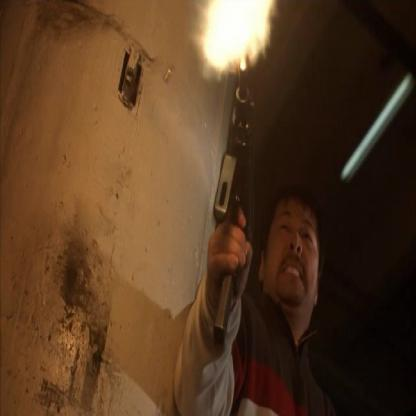Guns: (209, 49, 255, 343)
